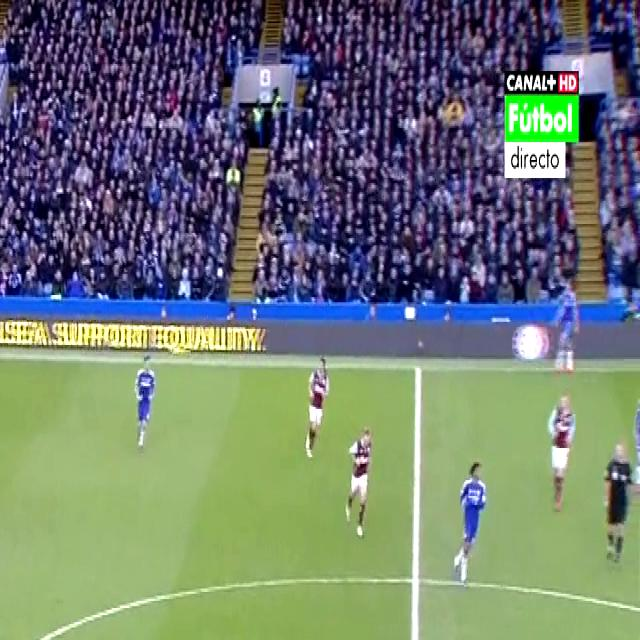referee: (600, 436, 640, 577)
soccer-player: (449, 455, 496, 589), (338, 412, 381, 542), (542, 386, 581, 520), (296, 346, 332, 466), (127, 348, 163, 459), (548, 275, 579, 376)
